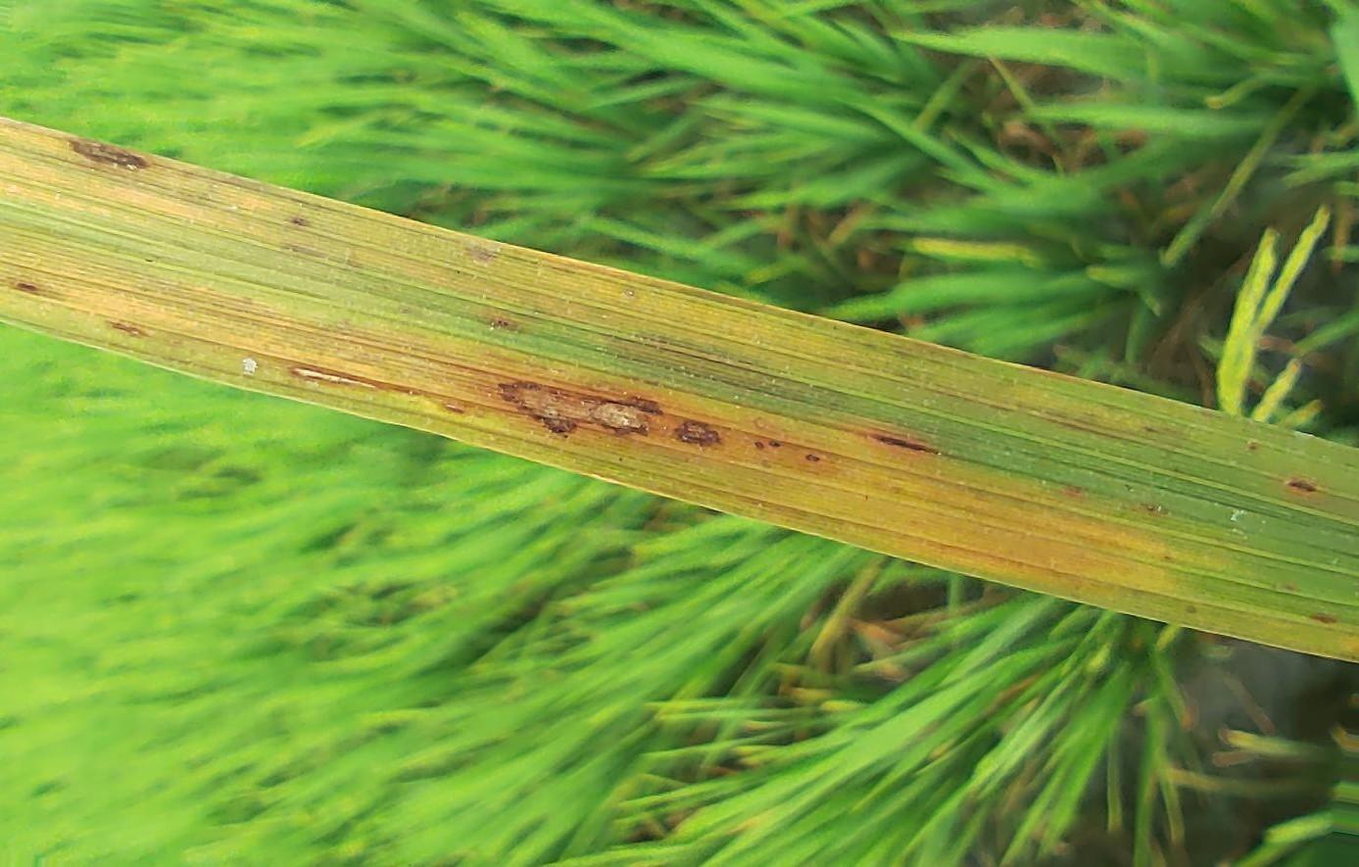LEAF BLAST: (499, 383, 660, 434), (71, 140, 148, 169), (293, 367, 375, 387), (676, 420, 719, 446)
